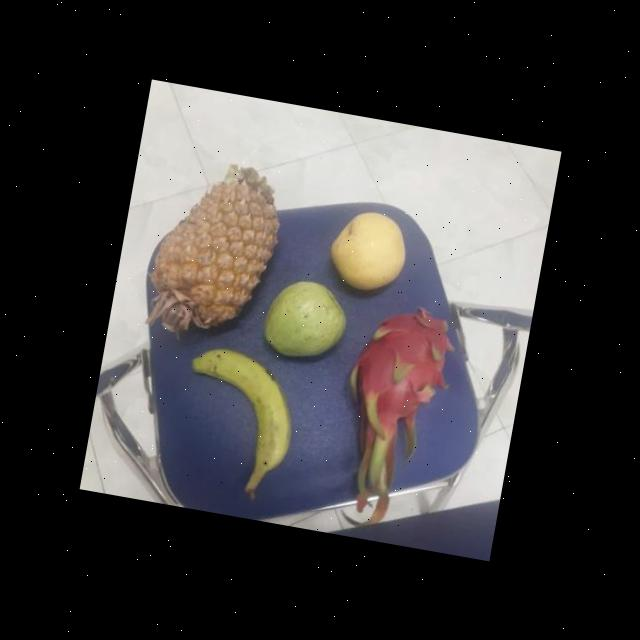banana: (176, 344, 308, 478)
guava: (261, 276, 356, 364)
pear: (322, 206, 415, 298)
pineapple: (143, 164, 287, 346)
pitaya: (344, 300, 464, 444)
